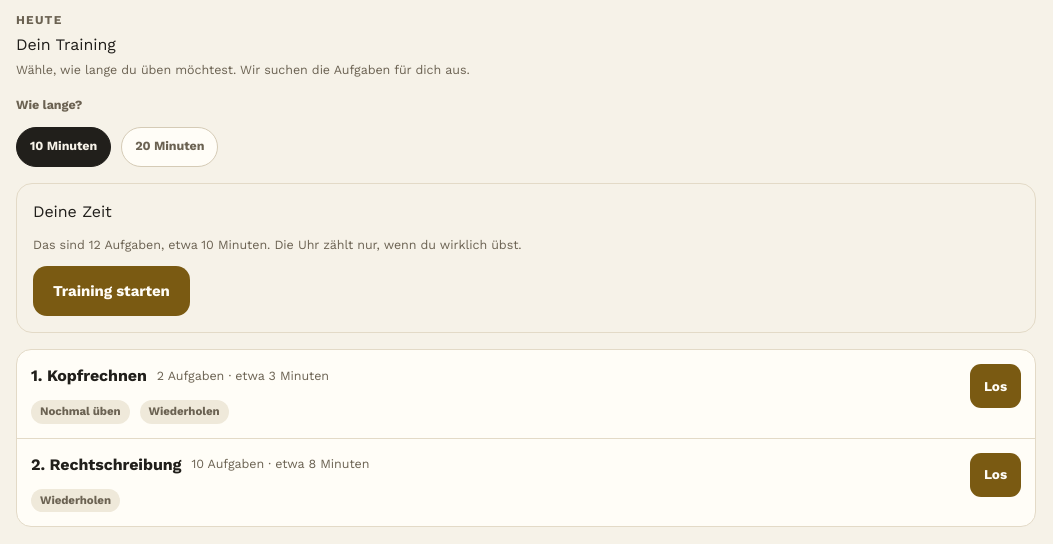
Scenario: Tagestraining: Container › plant für die gewählte Dauer und fasst Module zu Abschnitten zusammen
The image size is (1053, 544).
Expected: the list item that starts with "Kopfrechnen" shows "1. Kopfrechnen", [17, 350, 1035, 438]
Expected: the list item that starts with "Kopfrechnen" shows "2 Aufgaben", [157, 368, 224, 383]
Click the button "20 Minuten" at (170, 146), box [121, 126, 218, 166]
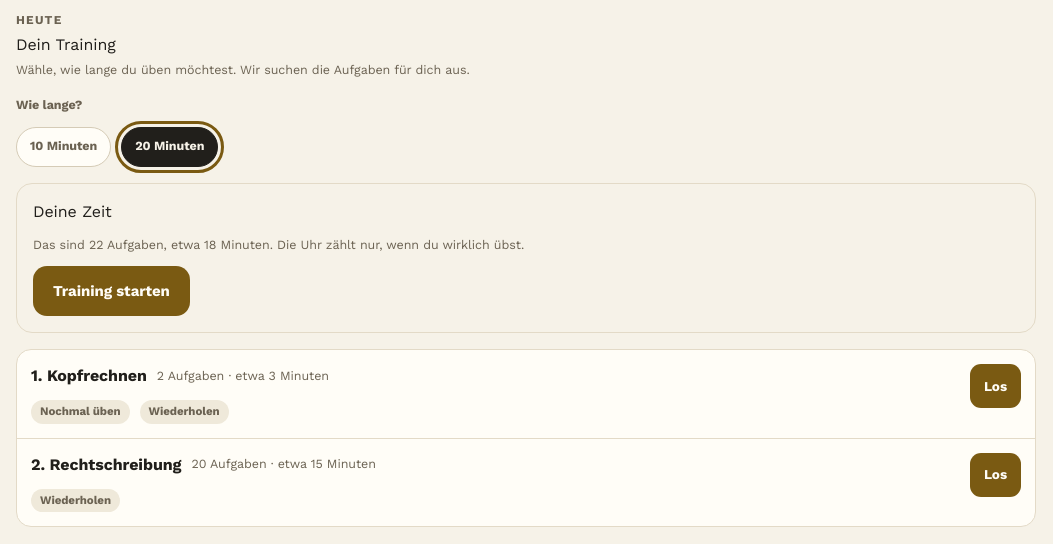
Now the list item that starts with "Rechtschreibung" shows "20 Aufgaben", box [191, 456, 266, 471]
